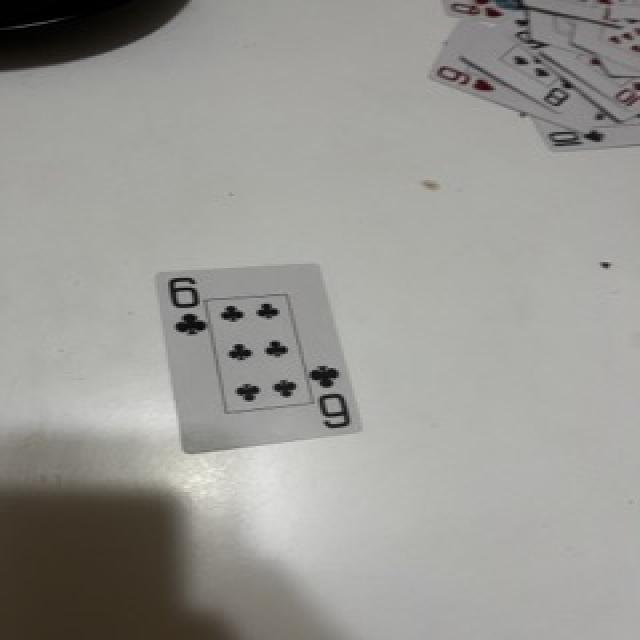6 of clubs: (157, 264, 358, 452)
